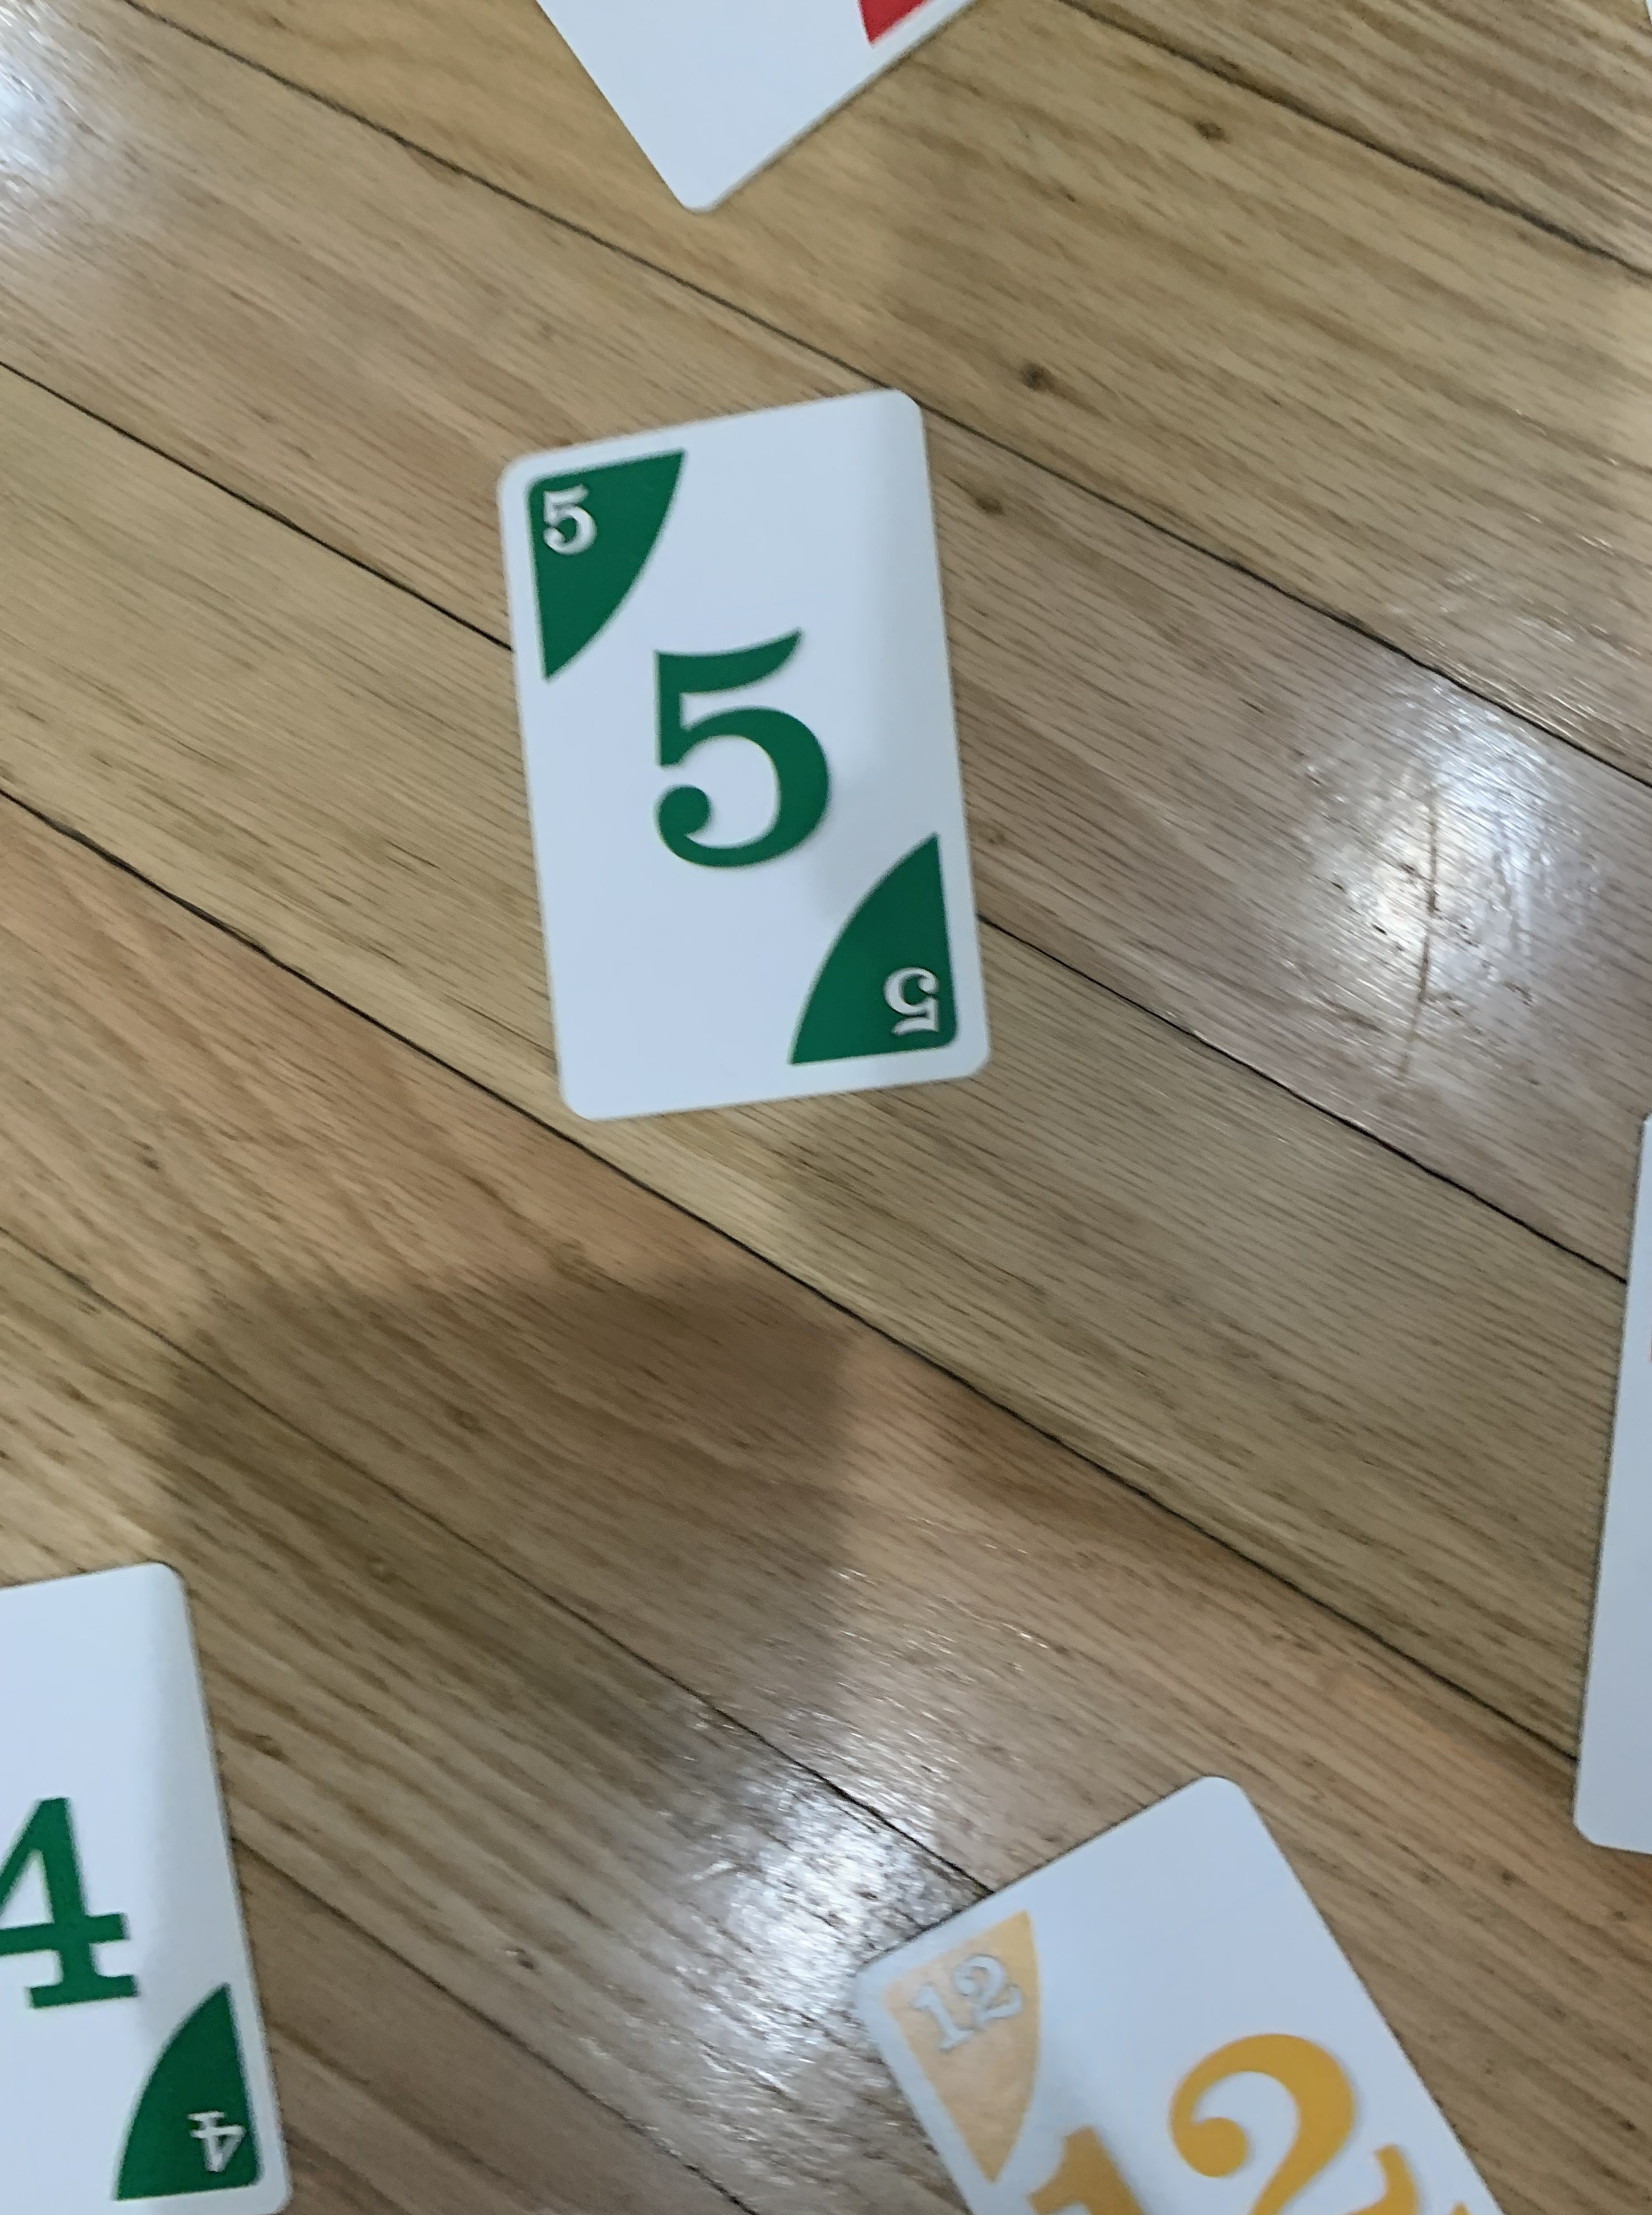five: (489, 377, 1000, 1132)
twelve: (847, 1765, 1522, 2215)
